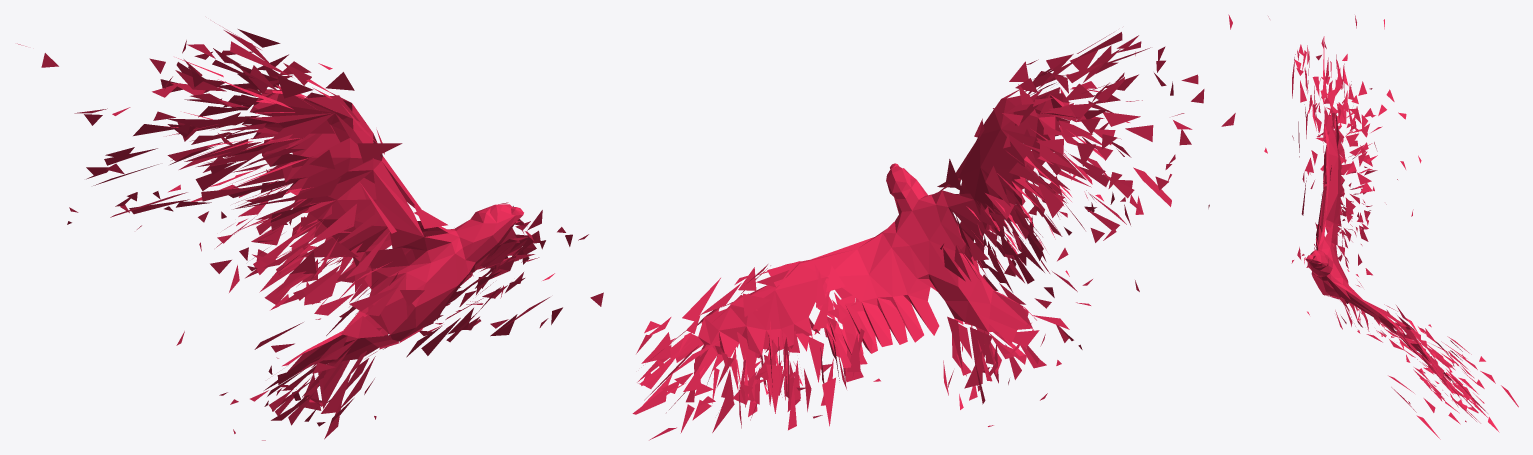
Rendered from falcon.gltfpack.glb.
3 renders of one model, left to right at view 1: azimuth 30°, elevation 25°; view 2: azimuth 150°, elevation 25°; view 3: azimuth 270°, elevation 25°, orthographic. The views are drawn at different scales.
Visible parts, largest first — view 1: m514, m428, m070, m019, m617; view 2: m822, m465, m268, m277, m767, m067; view 3: no part large enough to name.
Boxes of the visible parts, x1,y1,x2,y2 form: m514: (373,170,423,236); m428: (298,158,349,194); m070: (380,297,407,334); m019: (271,113,334,139); m617: (304,204,356,247); m822: (775,277,826,316); m465: (981,129,1014,168); m268: (896,211,928,245); m277: (869,248,892,296); m767: (800,249,856,276); m067: (912,205,940,240).
Bounding box in the file's own units: 3.25 × 2.5 × 2.05.
